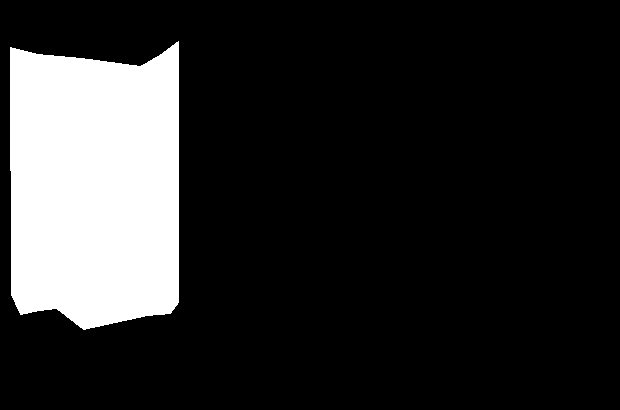type3s: (6, 34, 181, 332)
